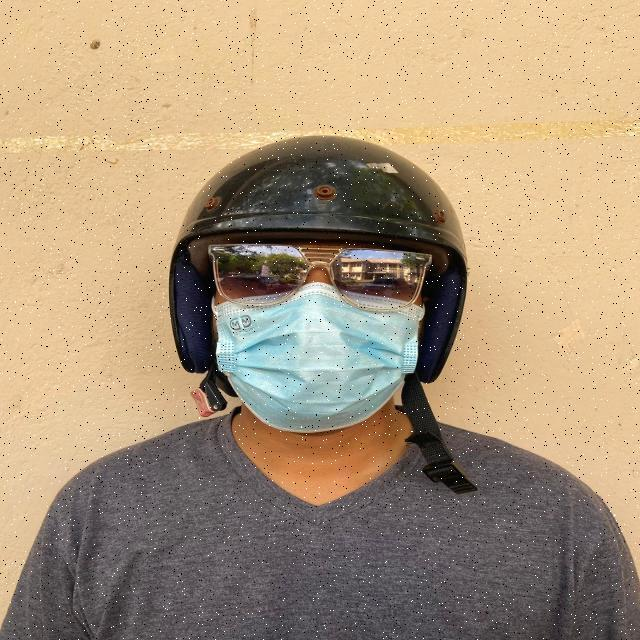helmet: (166, 136, 481, 493)
